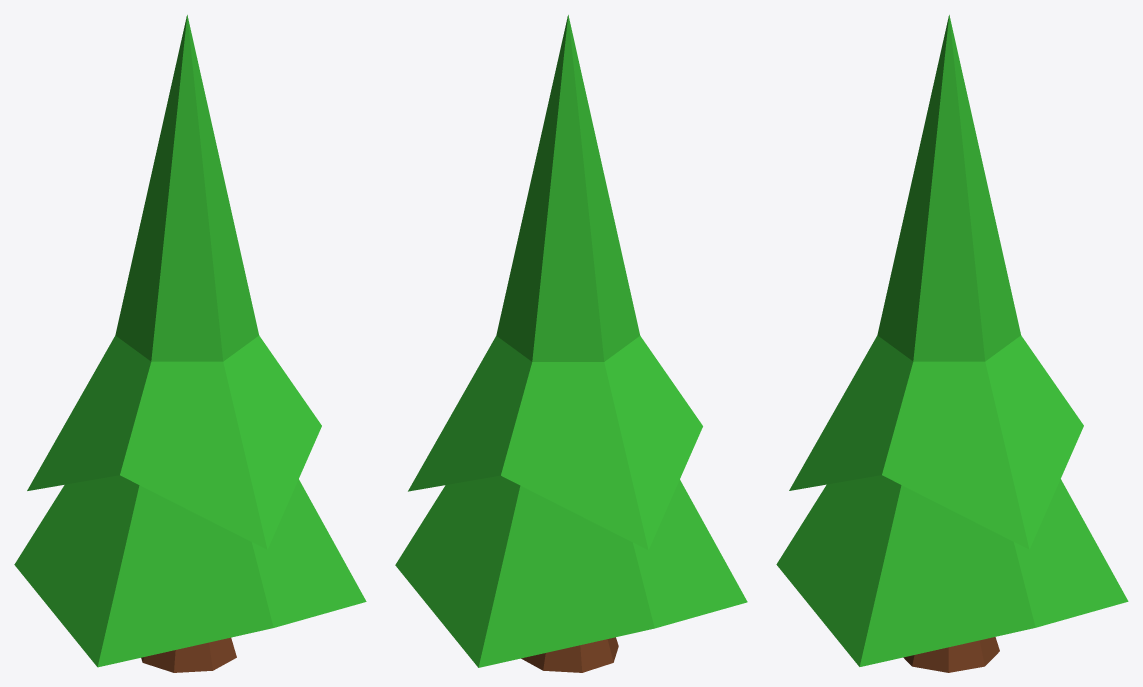
The model's file is tree3.fbx.
3 renders of one model, left to right at view 1: azimuth 30°, elevation 25°; view 2: azimuth 150°, elevation 25°; view 3: azimuth 270°, elevation 25°, orthographic.
Parts seen in each view (by area): view 1: Cylinder, Cylinder.001; view 2: Cylinder, Cylinder.001; view 3: Cylinder, Cylinder.001.
Part boxes in pixels (<box>): Cylinder: <box>14,15,366,667</box>; Cylinder.001: <box>141,637,236,672</box>; Cylinder: <box>395,15,747,667</box>; Cylinder.001: <box>521,637,618,672</box>; Cylinder: <box>776,15,1128,666</box>; Cylinder.001: <box>903,637,999,672</box>.
Size of the model in its own units: 603 by 1365 by 684.
